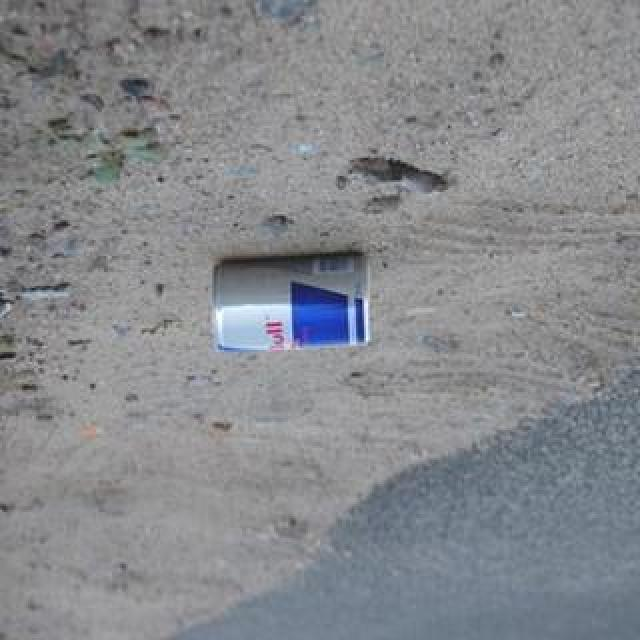Can: (206, 254, 374, 354)
